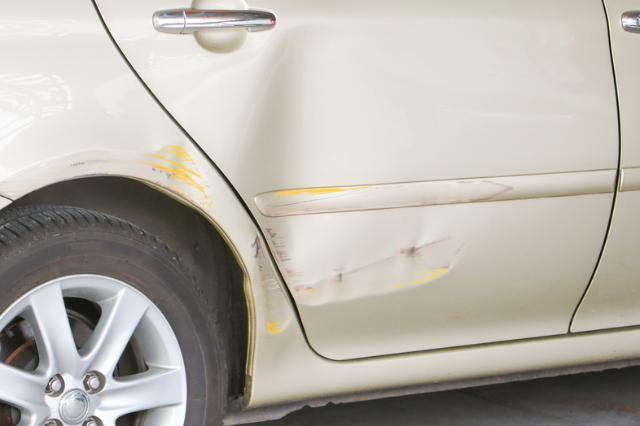Door: (173, 5, 570, 321)
Fender: (78, 123, 343, 403)
